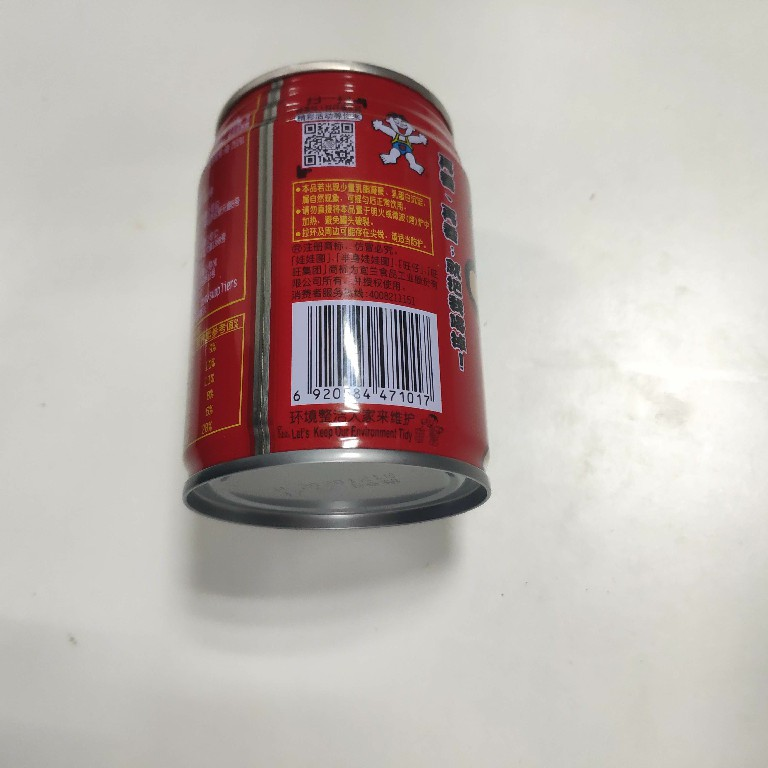can: (170, 55, 498, 537)
